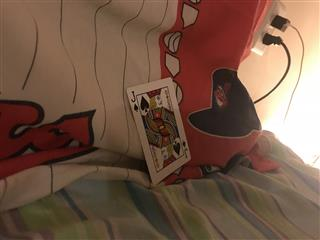JackOfSpades: (125, 76, 192, 185)
